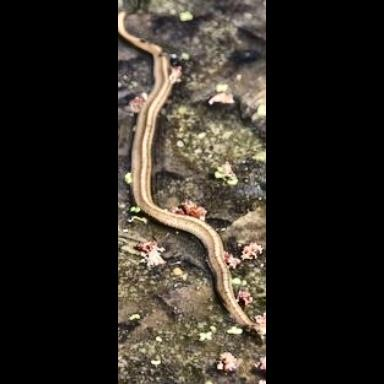snake: (119, 11, 265, 339)
